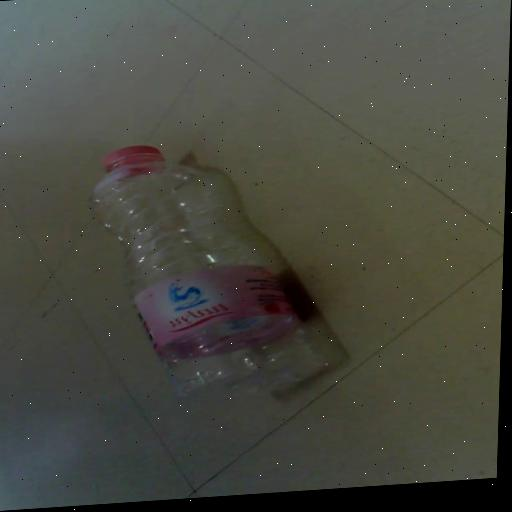bottle: (82, 131, 341, 404)
